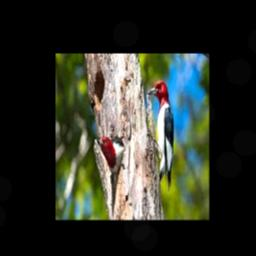Woodpecker: (147, 81, 174, 191), (97, 134, 124, 195)
